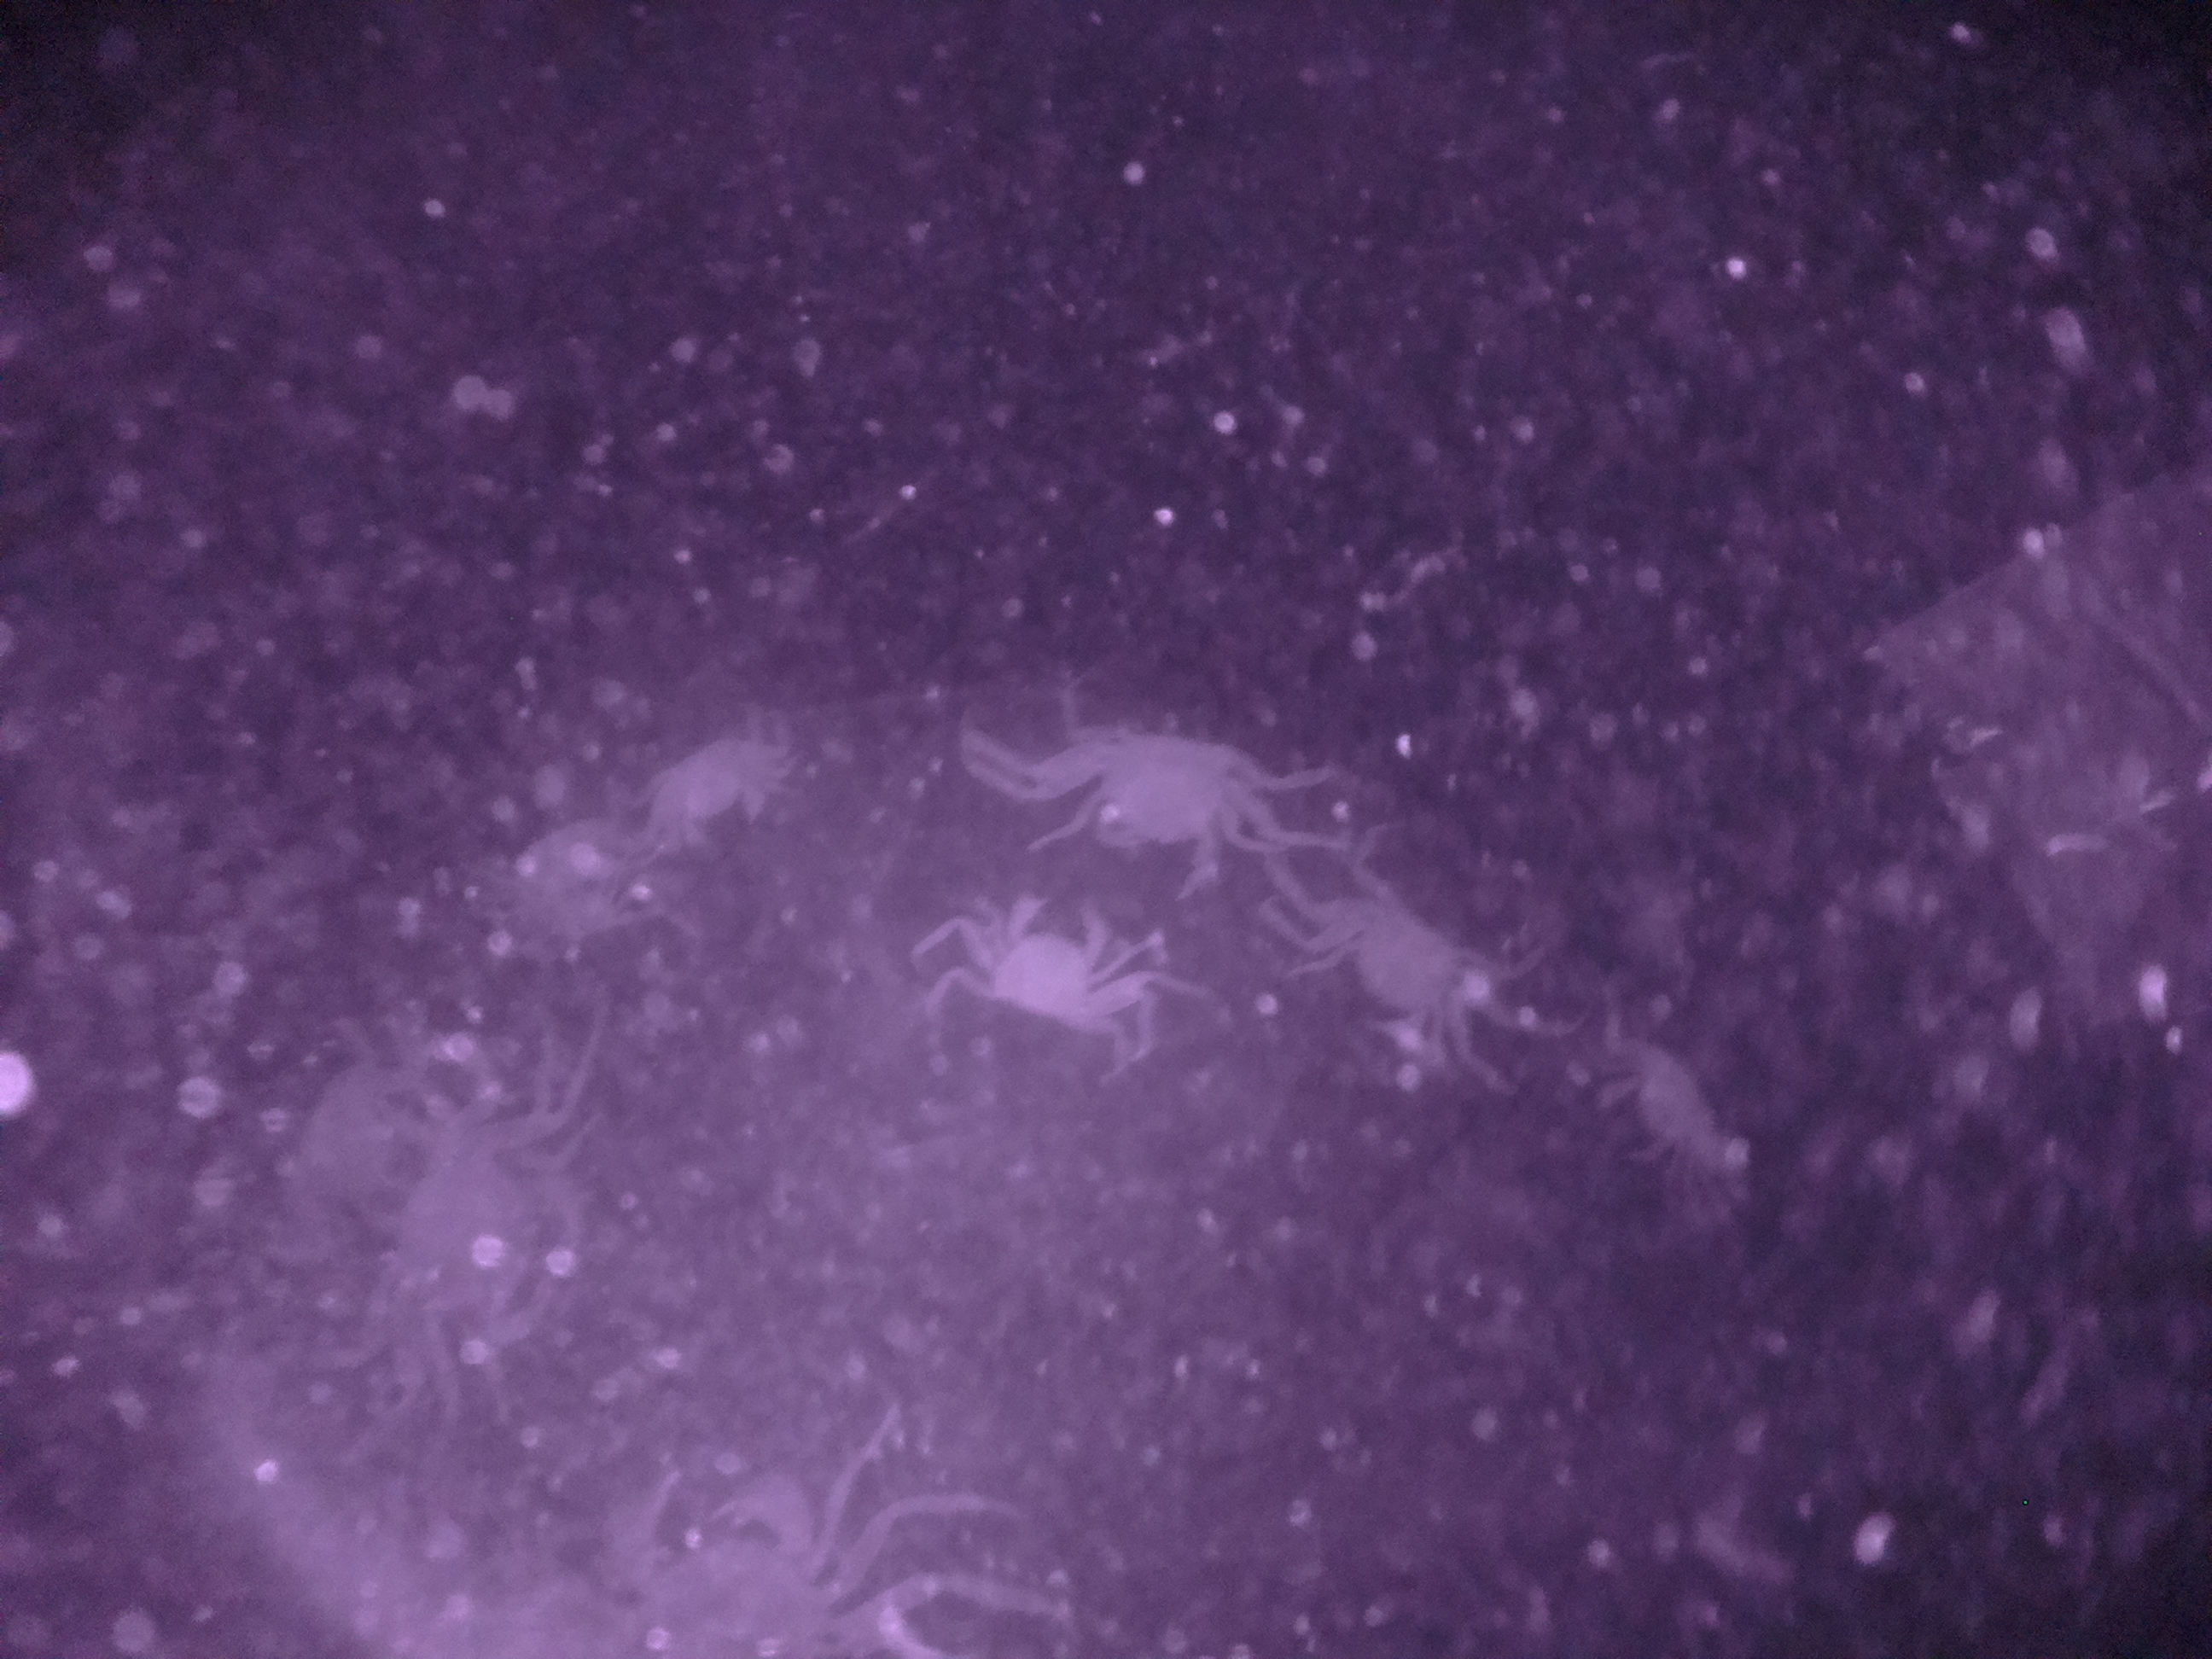Crab: (1062, 699, 1266, 896), (958, 884, 1129, 1037)
